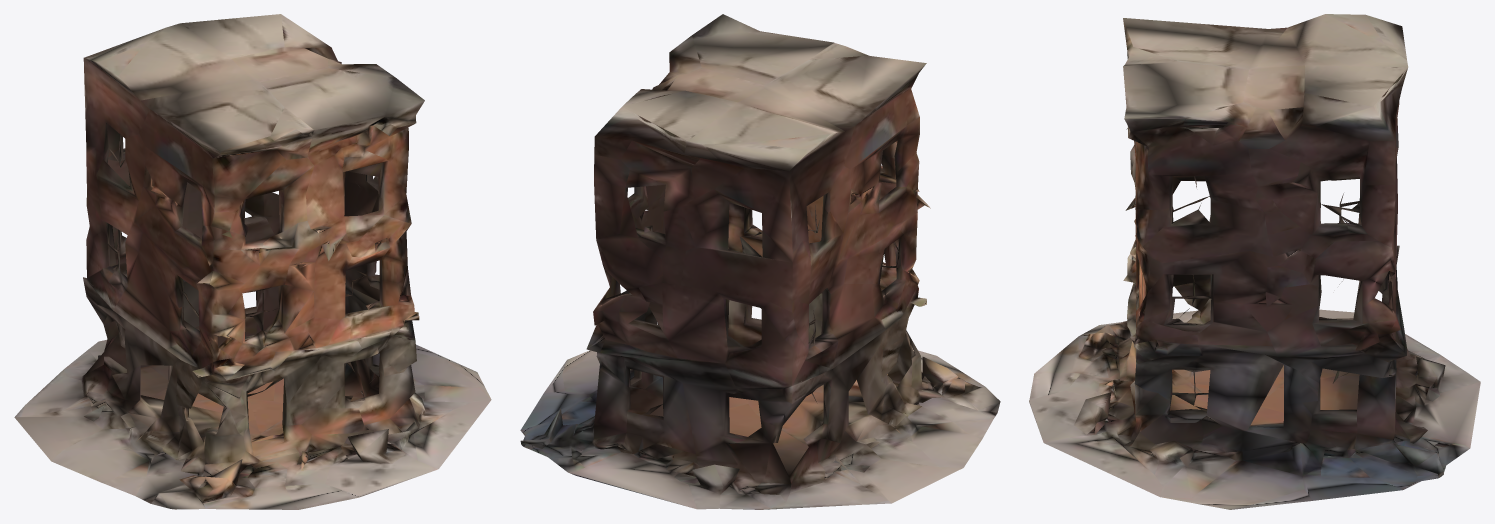
Rendered from p8apart.glb.
The picture shows the model from 3 angles, left to right: view 1: azimuth 30°, elevation 25°; view 2: azimuth 150°, elevation 25°; view 3: azimuth 270°, elevation 25°; orthographic projection.
Parts seen in each view (by area): view 1: tripo_node_e62fa156-cfdc-4f6b-bae2-4a2bcc1c334e; view 2: tripo_node_e62fa156-cfdc-4f6b-bae2-4a2bcc1c334e; view 3: tripo_node_e62fa156-cfdc-4f6b-bae2-4a2bcc1c334e.
Boxes of the visible parts, x1,y1,x2,y2 form: tripo_node_e62fa156-cfdc-4f6b-bae2-4a2bcc1c334e: [14, 14, 491, 509]; tripo_node_e62fa156-cfdc-4f6b-bae2-4a2bcc1c334e: [520, 14, 1000, 509]; tripo_node_e62fa156-cfdc-4f6b-bae2-4a2bcc1c334e: [1029, 14, 1480, 509].
Bounding box in the file's own units: 0.9306 × 0.728 × 0.8718.
1 material, 1 textured.
